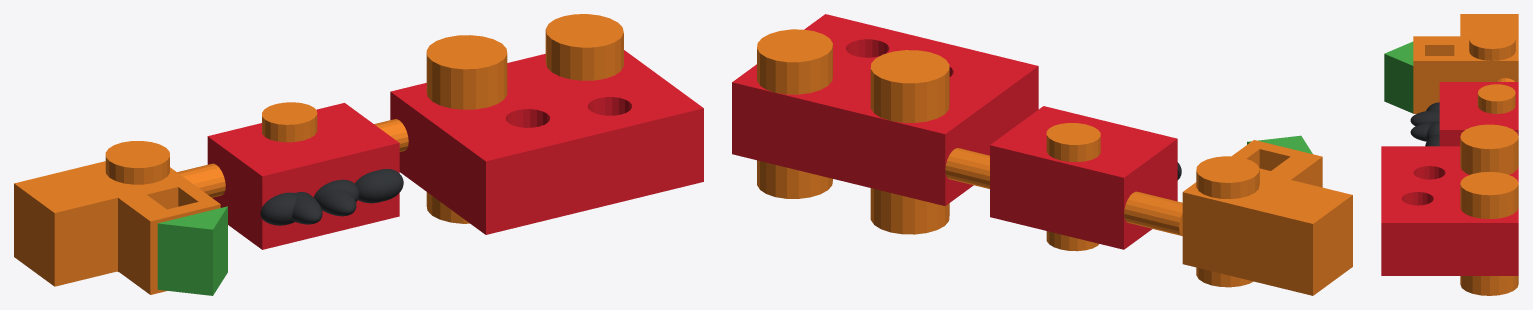
The model's file is tinker.obj.
3 renders of one model, left to right at view 1: azimuth 30°, elevation 25°; view 2: azimuth 150°, elevation 25°; view 3: azimuth 270°, elevation 25°, orthographic. The views are drawn at different scales.
Parts seen in each view (by area): view 1: group_0_15277357, group_0_16089887, group_0_4634441, group_0_2829873; view 2: group_0_15277357, group_0_16089887, group_0_4634441; view 3: group_0_15277357, group_0_16089887, group_0_4634441, group_0_2829873.
Boxes of the visible parts, x1,y1,x2,y2 form: group_0_15277357: [207, 50, 703, 249]; group_0_16089887: [14, 14, 623, 294]; group_0_4634441: [157, 206, 227, 295]; group_0_2829873: [260, 169, 403, 225]; group_0_15277357: [732, 14, 1177, 249]; group_0_16089887: [757, 29, 1352, 295]; group_0_4634441: [1247, 135, 1312, 153]; group_0_15277357: [1381, 82, 1518, 275]; group_0_16089887: [1413, 14, 1518, 295]; group_0_4634441: [1384, 41, 1413, 113]; group_0_2829873: [1410, 102, 1439, 146].
Size of the model in its own units: 169 by 42 by 47.
